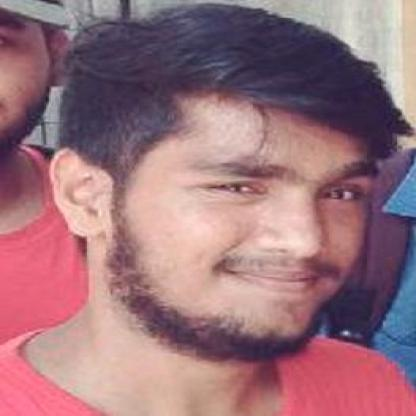without_mask: (92, 42, 372, 343)
